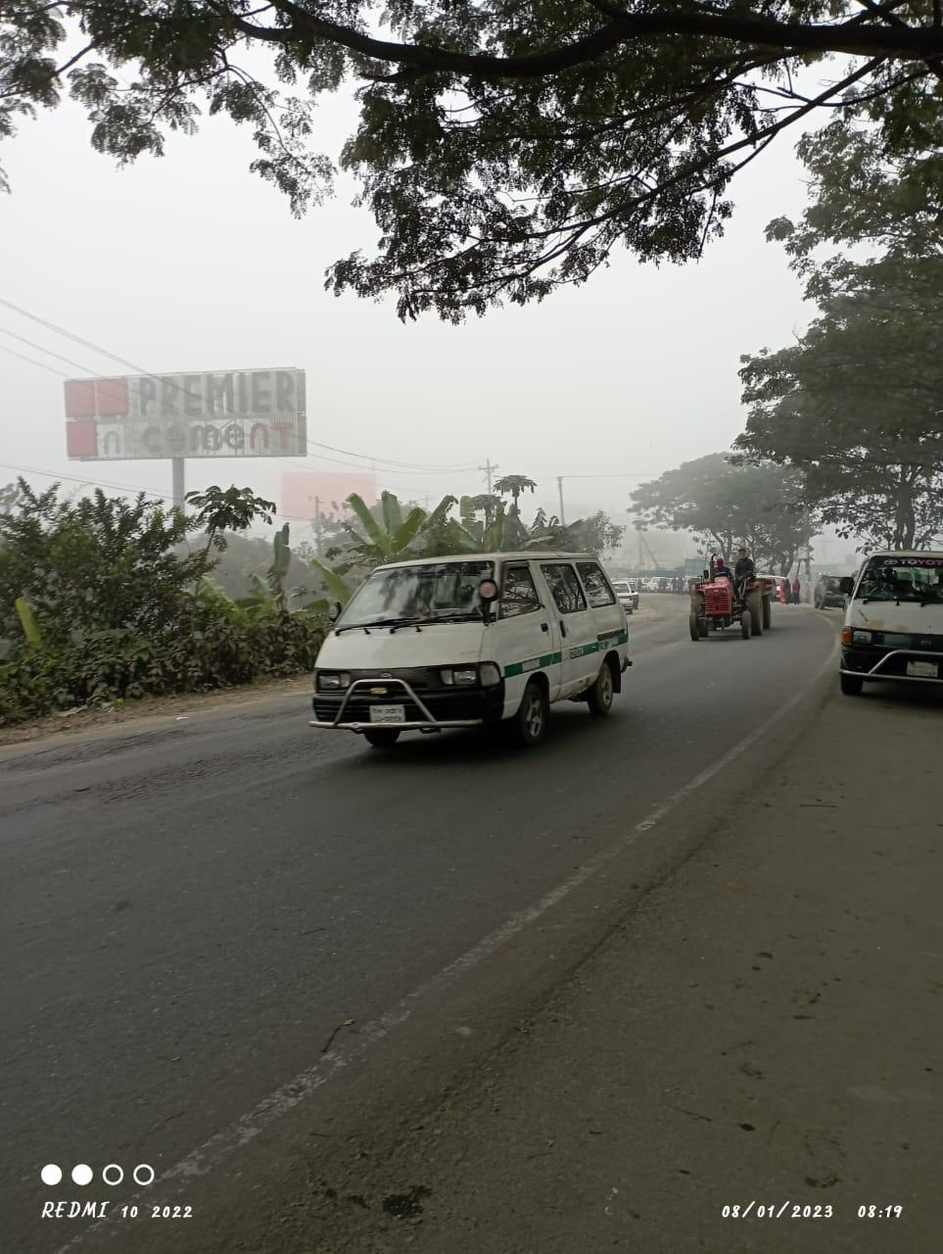Car: (298, 548, 638, 736), (828, 552, 943, 712)
Truck: (683, 541, 778, 654)
